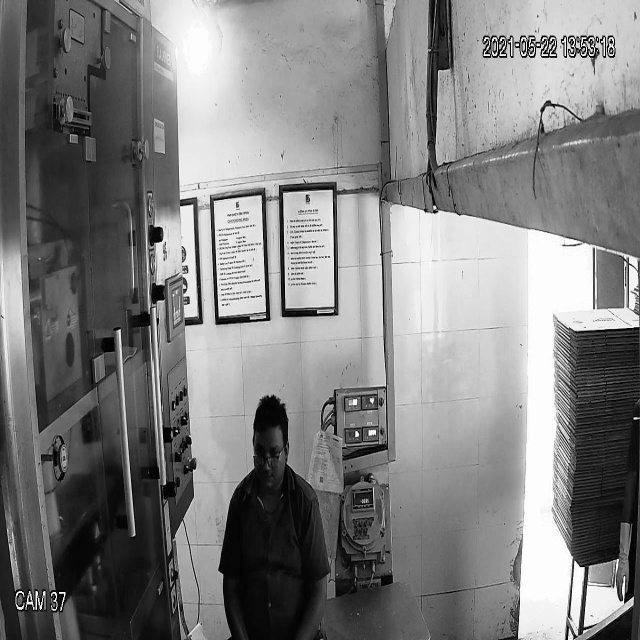Gafas: (249, 436, 289, 474)
